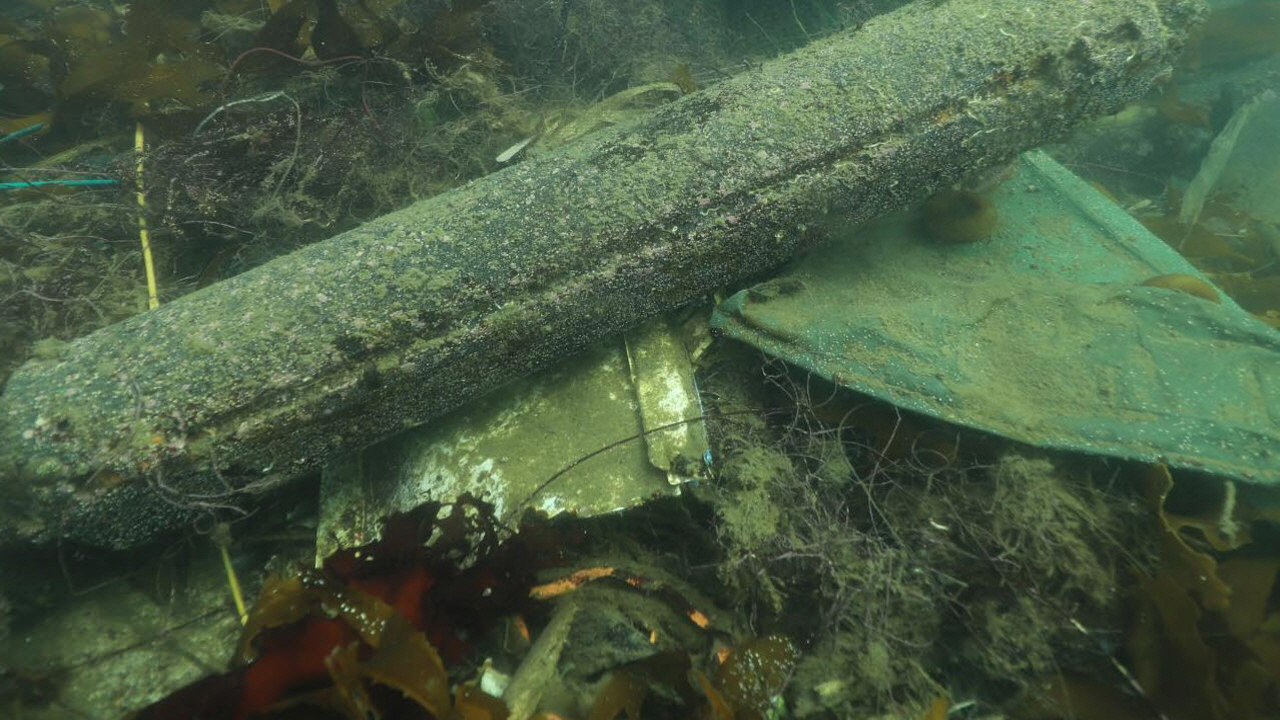eel fish trap: (0, 0, 1280, 550)
